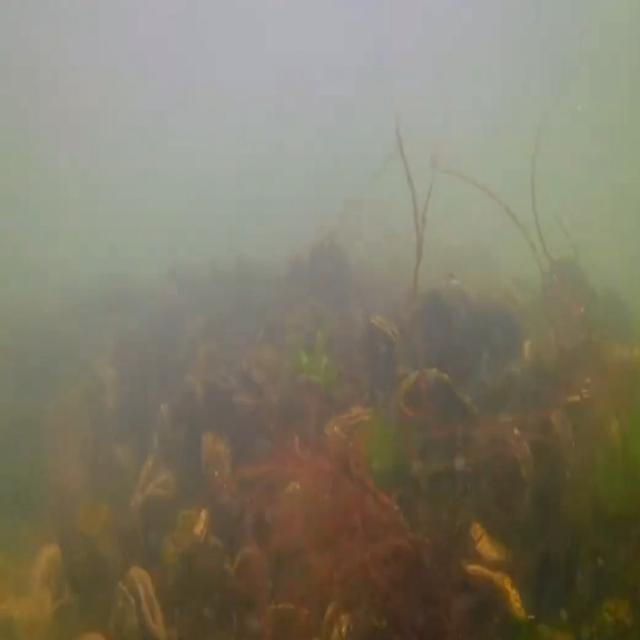Oyster-Closed: (369, 314, 402, 394), (328, 404, 380, 444)
Oyster-Indeterminate: (393, 368, 482, 460), (457, 557, 530, 621), (136, 402, 178, 500), (468, 513, 527, 564), (200, 432, 237, 509), (164, 508, 210, 558), (136, 471, 182, 516)
Oyster-Open: (110, 563, 166, 640)
